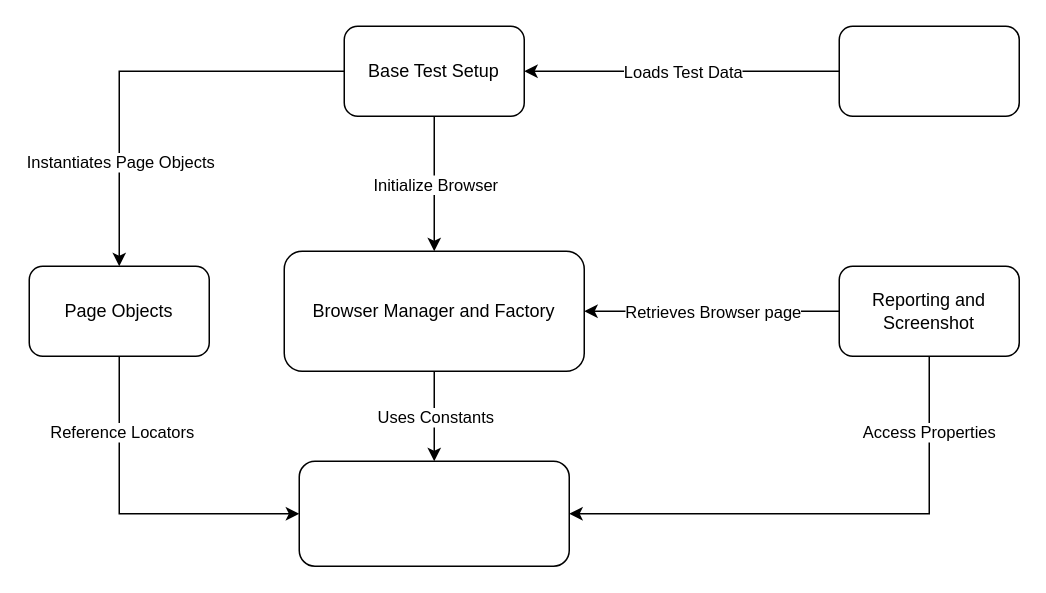
The diagram is 1046 pixels wide and 593 high, and some of its shapes have lost their labels. The shapes that lost their labels are listed below. From the top down, each one's centre as x and y in pixels, then its label:
At [928,70]: "Test Data Loader".
At [433,513]: "Constants App Constants and Element String Locators".
